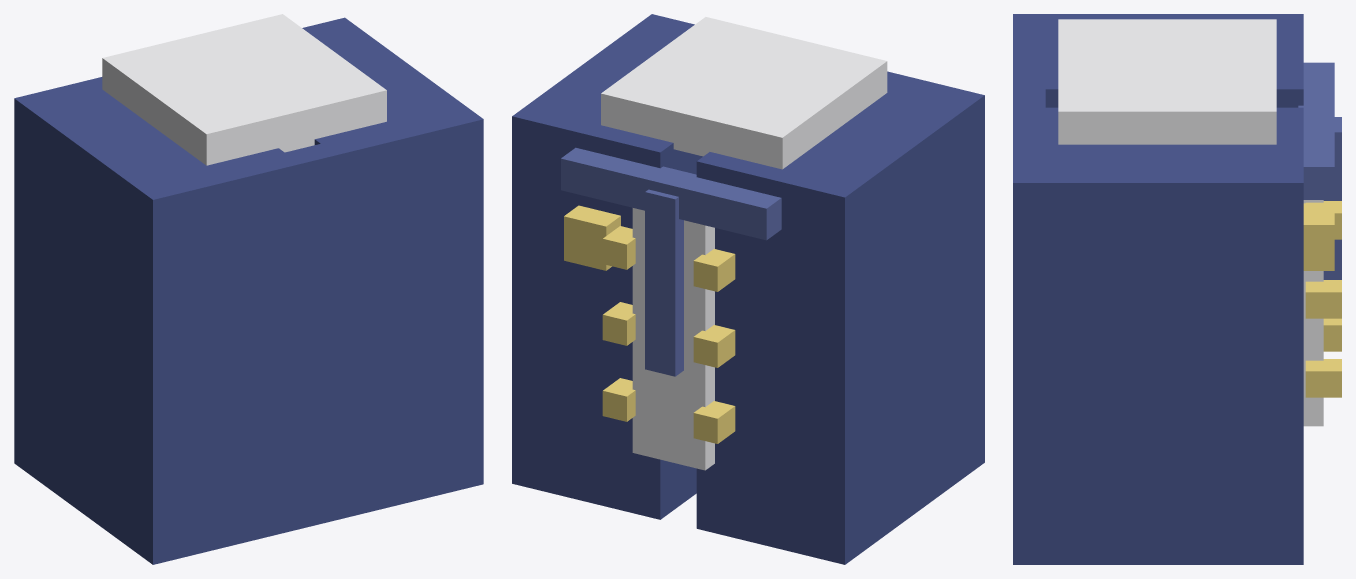
The model's file is piloto_comercial_tronco.glb.
3 views of the same model, side by side, from view 1: azimuth 30°, elevation 25°; view 2: azimuth 150°, elevation 25°; view 3: azimuth 270°, elevation 25° (orthographic). The views are drawn at different scales.
Parts seen in each view (by area): view 1: piloto_comercial_tronco; view 2: piloto_comercial_tronco; view 3: piloto_comercial_tronco.
Part boxes in pixels (x1,y1,x2,y2): piloto_comercial_tronco: [14, 14, 483, 564]; piloto_comercial_tronco: [512, 14, 984, 564]; piloto_comercial_tronco: [1013, 14, 1341, 564].
Size of the model in its own units: 0.55 by 0.63 by 0.4525.
